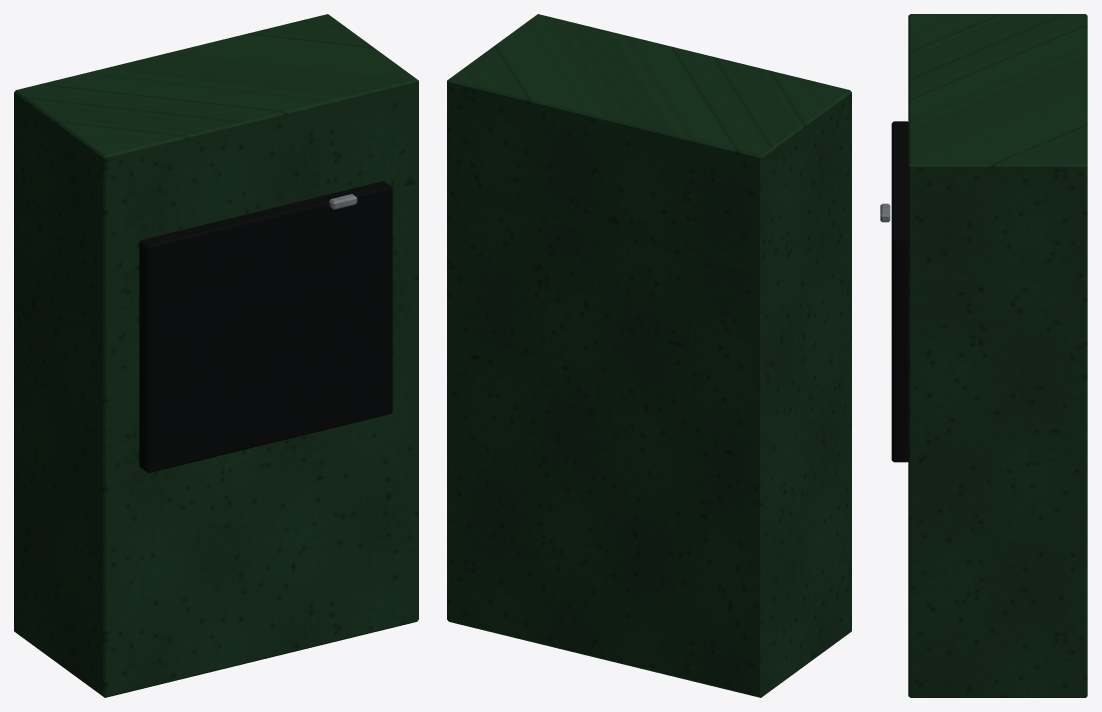
Rendered from PROP-1286FE789E92_lod1.glb.
The picture shows the model from 3 angles, left to right: view 1: azimuth 30°, elevation 25°; view 2: azimuth 150°, elevation 25°; view 3: azimuth 270°, elevation 25°; orthographic projection.
Visible parts, largest first — view 1: cabinet.008, recessed_front.008; view 2: cabinet.008; view 3: cabinet.008, recessed_front.008.
Part boxes in pixels (left/top/right/bottom): cabinet.008: left=14, top=14, right=418, bottom=697; recessed_front.008: left=139, top=181, right=392, bottom=472; cabinet.008: left=447, top=14, right=851, bottom=697; cabinet.008: left=908, top=14, right=1087, bottom=697; recessed_front.008: left=891, top=121, right=908, bottom=462.
Size of the model in its own units: 0.7 by 1.15 by 0.405.
Materials: 3 (3 with a texture image).
